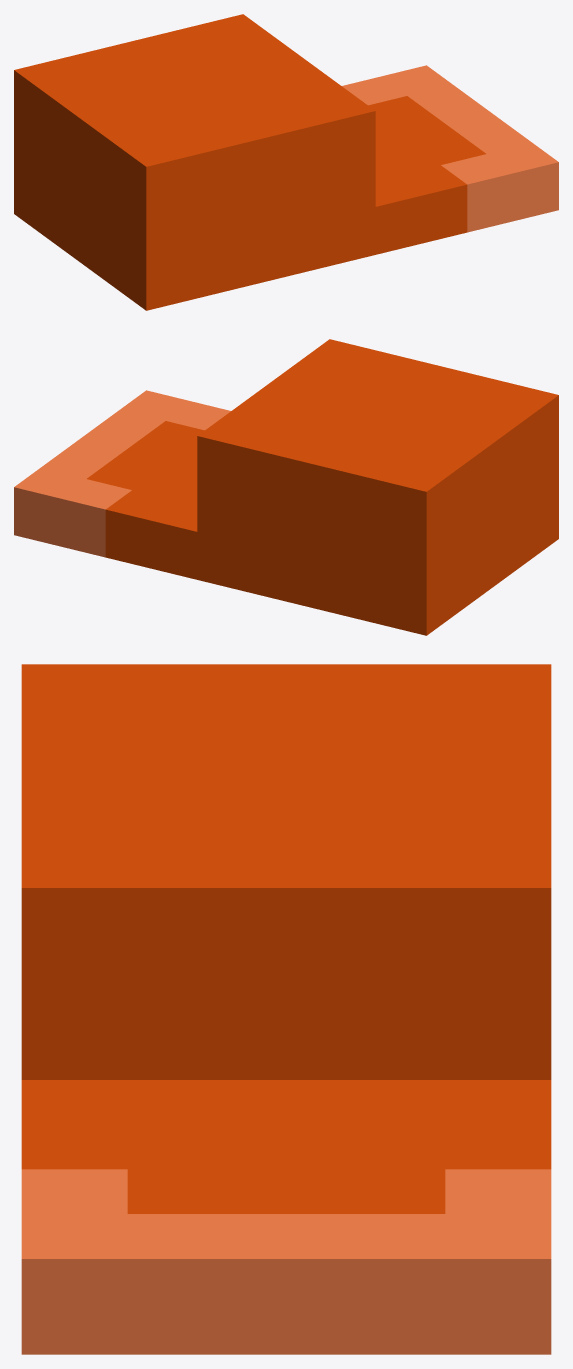
The model's file is Animals-19.obj.
3 views of the same model, one above another, from view 1: azimuth 30°, elevation 25°; view 2: azimuth 150°, elevation 25°; view 3: azimuth 270°, elevation 25° (orthographic). The views are drawn at different scales.
Size of the model in its own units: 0.9 by 0.3 by 0.5.
1 material, 1 textured.
